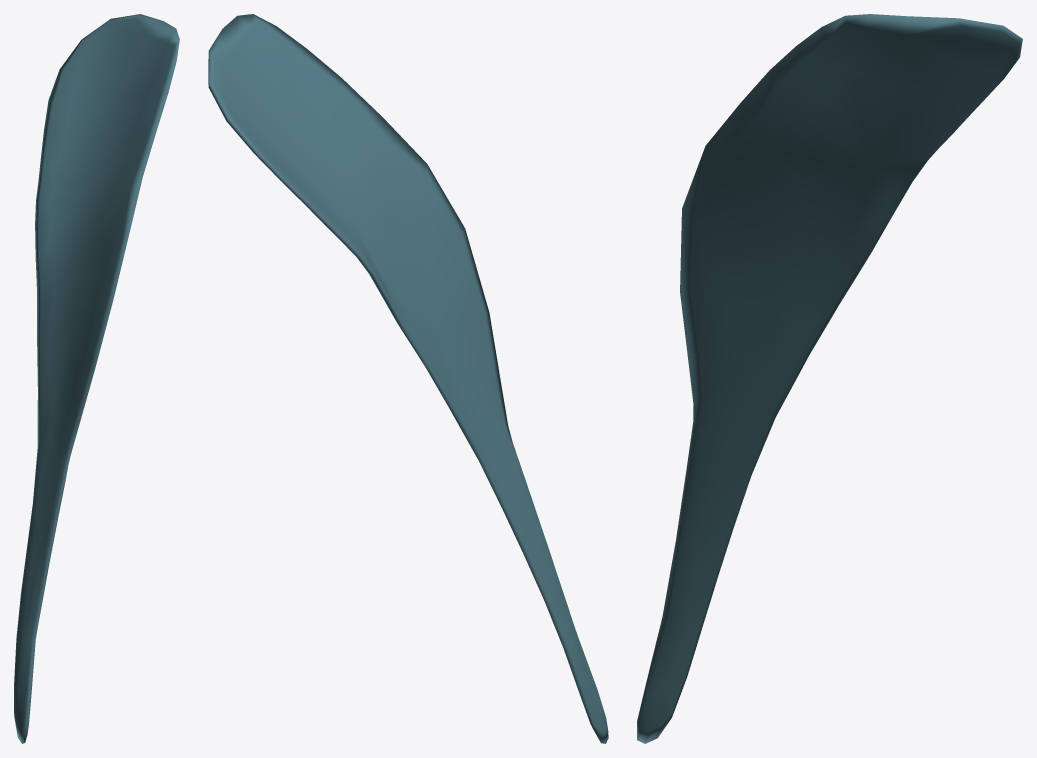
Rendered from Semitendinosus_on_pes_anserinus.r_Generated_Mesh_From_X3D.232.glb.
3 renders of one model, left to right at view 1: azimuth 30°, elevation 25°; view 2: azimuth 150°, elevation 25°; view 3: azimuth 270°, elevation 25°, orthographic. The views are drawn at different scales.
Visible parts, largest first — view 1: Semitendinosus_on_pes_anserinus.r_Generated_Mesh_From_X3D.23; view 2: Semitendinosus_on_pes_anserinus.r_Generated_Mesh_From_X3D.23; view 3: Semitendinosus_on_pes_anserinus.r_Generated_Mesh_From_X3D.23.
Part boxes in pixels (<box>): Semitendinosus_on_pes_anserinus.r_Generated_Mesh_From_X3D.23: <box>14,14,179,743</box>; Semitendinosus_on_pes_anserinus.r_Generated_Mesh_From_X3D.23: <box>208,14,608,743</box>; Semitendinosus_on_pes_anserinus.r_Generated_Mesh_From_X3D.23: <box>637,14,1022,743</box>.
Bounding box in the file's own units: 0.0197 × 0.0493 × 0.0192.
